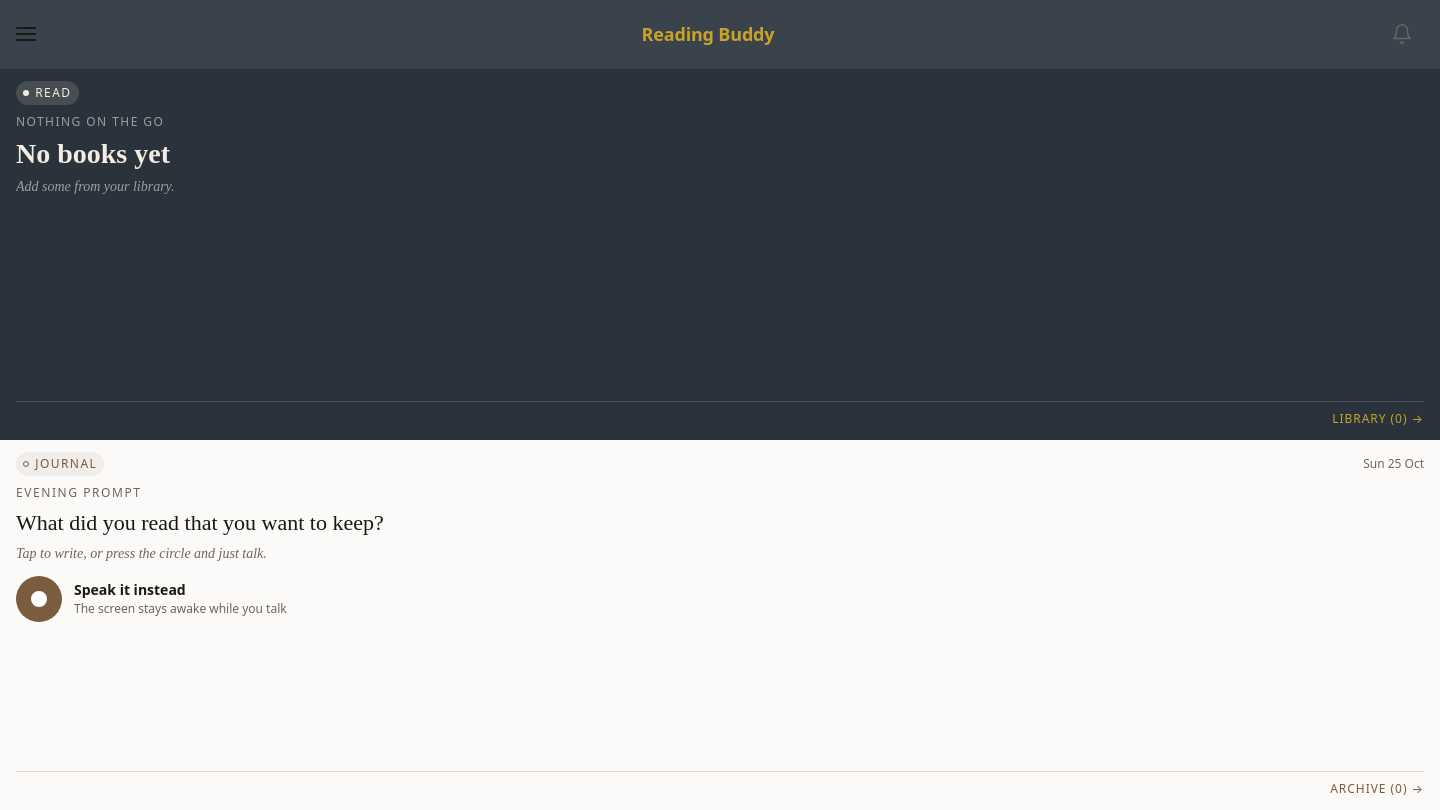
it: app shell › opens the drawer from the hamburger and offers all four destinations
Click the button named "Open menu" at (26, 34), box [16,27,36,41]
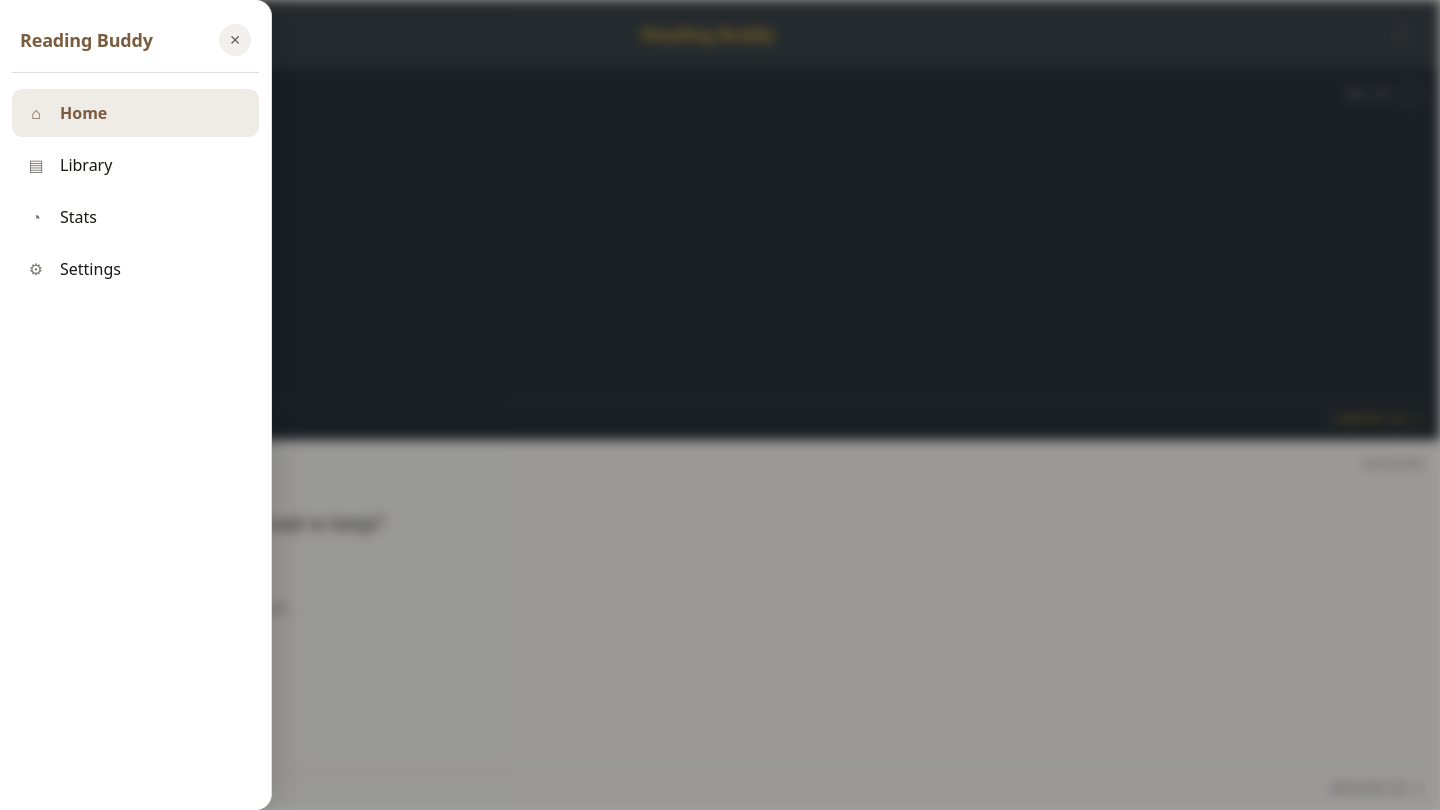
Now the button named "Open menu" is expanded, box [16,27,36,41]
Now the navigation bar named "Main" is shown, box [0,0,272,809]
Now the link "⌂ Home" is shown, box [12,89,259,137]
